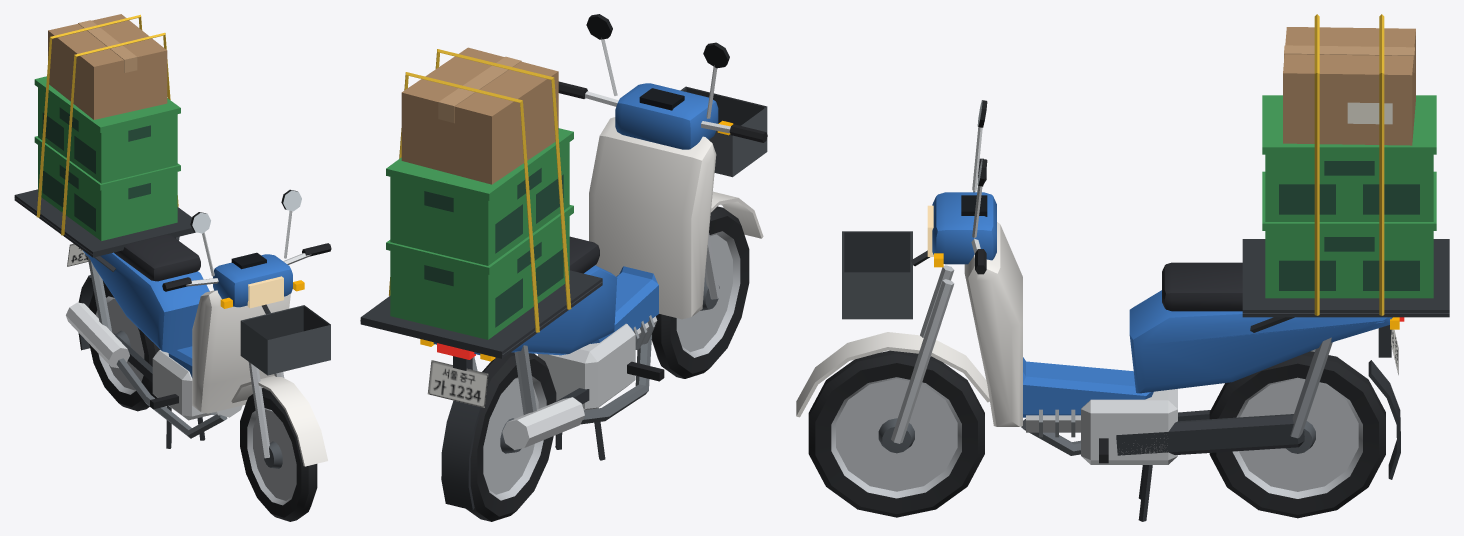
File: SC_Veh_Motorcycle_Cargo.gltf
3 views of the same model, side by side, from view 1: azimuth 30°, elevation 25°; view 2: azimuth 150°, elevation 25°; view 3: azimuth 270°, elevation 25° (orthographic). The views are drawn at different scales.
Parts seen in each view (by area): view 1: SC_Veh_Motorcycle_Cargo; view 2: SC_Veh_Motorcycle_Cargo; view 3: SC_Veh_Motorcycle_Cargo.
Boxes of the visible parts, <box> form: SC_Veh_Motorcycle_Cargo: <box>14,14,331,521</box>; SC_Veh_Motorcycle_Cargo: <box>360,14,767,521</box>; SC_Veh_Motorcycle_Cargo: <box>796,14,1449,521</box>.
Size of the model in its own units: 0.78 by 1.61 by 2.02.
Materials: 3 (3 with a texture image).
